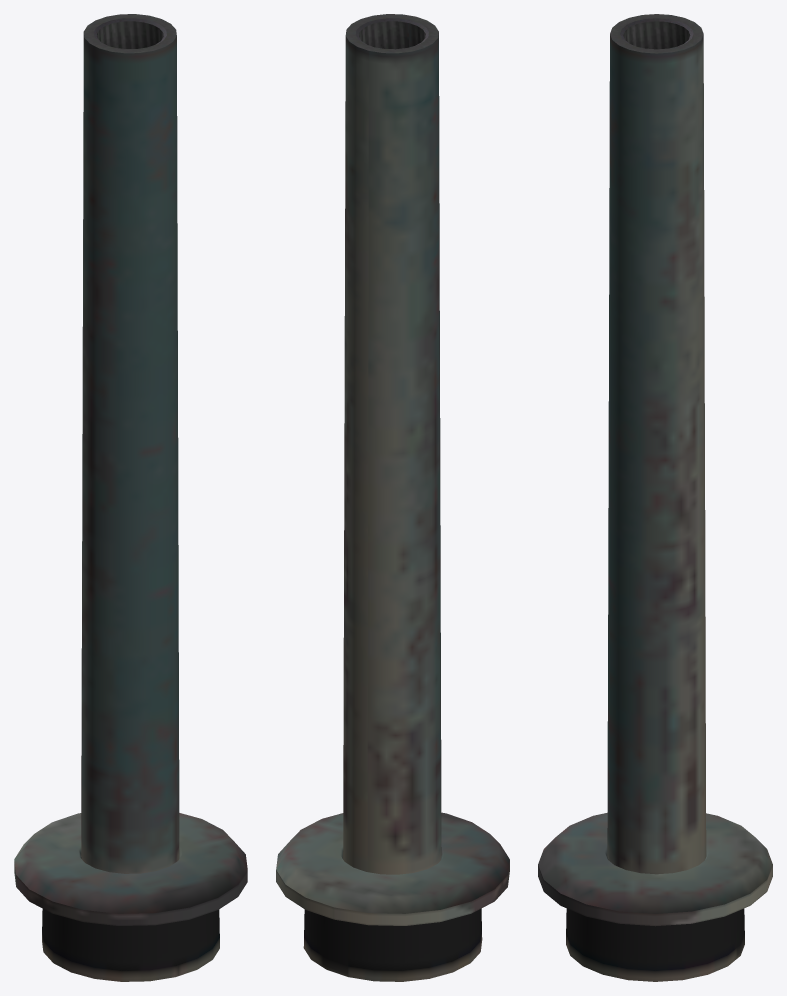
File: Gun_05.glb
The picture shows the model from 3 angles, left to right: view 1: azimuth 30°, elevation 25°; view 2: azimuth 150°, elevation 25°; view 3: azimuth 270°, elevation 25°; orthographic projection.
Visible parts, largest first — view 1: set_0_group_0; view 2: set_0_group_0; view 3: set_0_group_0.
Boxes of the visible parts, x1,y1,x2,y2 form: set_0_group_0: [14, 14, 247, 981]; set_0_group_0: [276, 14, 509, 981]; set_0_group_0: [538, 14, 772, 981].
Bounding box in the file's own units: 0.2629 × 1.12 × 0.2629.
Materials: 1 (1 with a texture image).
